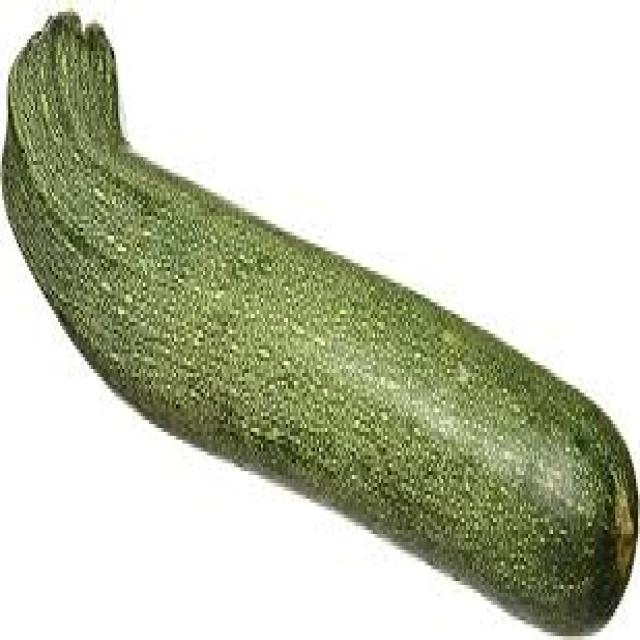Zucchini: (21, 81, 638, 624)
